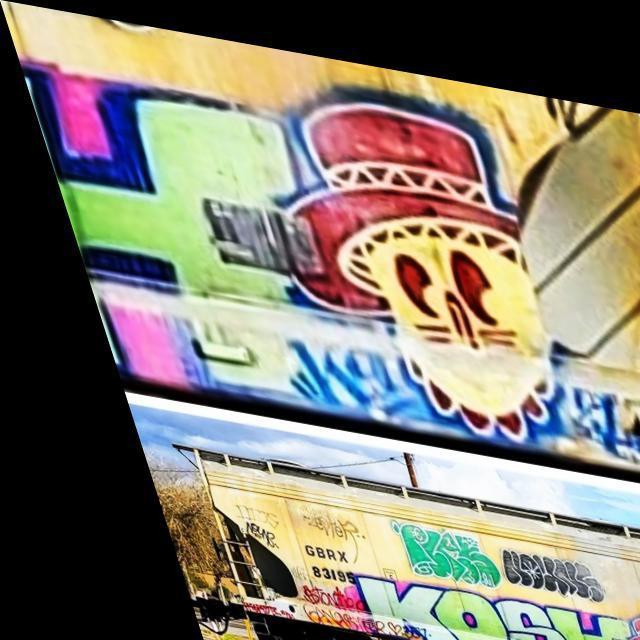-: (200, 58, 640, 451), (314, 563, 616, 640), (348, 497, 476, 581), (464, 530, 586, 596), (261, 575, 390, 636), (262, 494, 340, 556), (200, 492, 260, 550), (268, 531, 328, 581), (591, 589, 640, 640), (621, 554, 640, 604)
